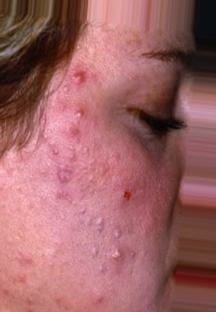Acne: (26, 69, 152, 289)
